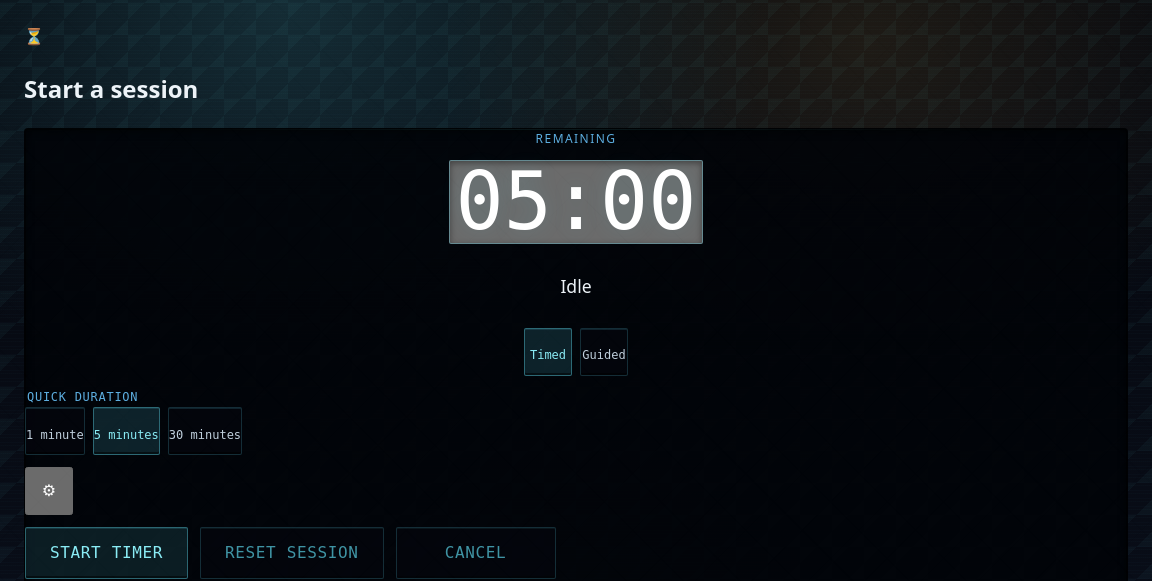
Test case: timer page layout › switches the primary action to pause while the session is running
(page scrolled)
Click the button with test id "timer-start" at (106, 553), box [25,527,188,579]
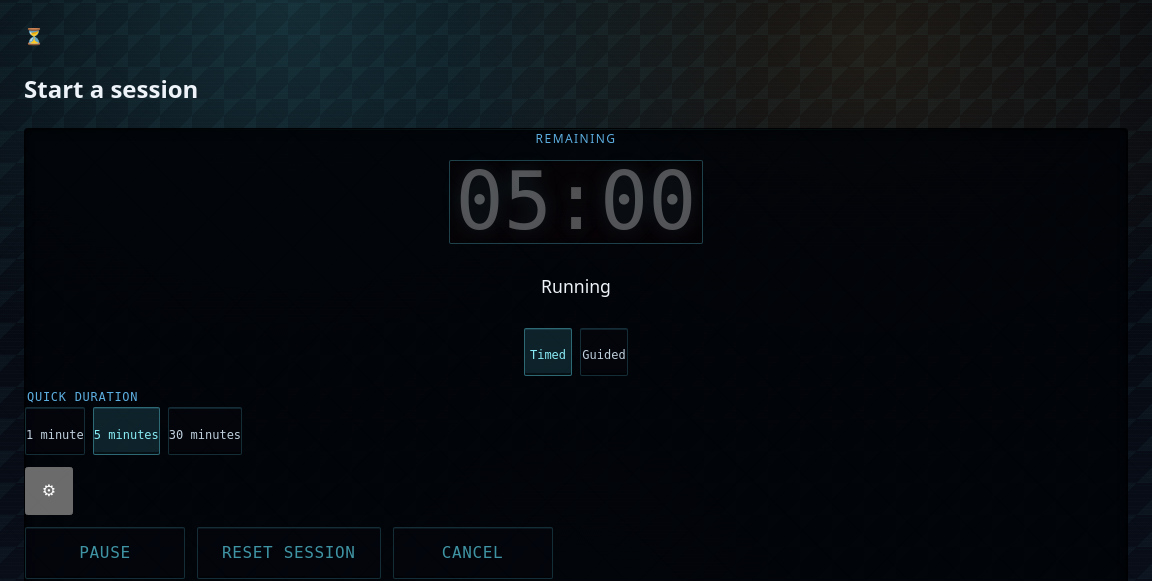
Expected: the button with test id "timer-start" is gone
Expected: the button with test id "timer-pause" reads "Pause", [25,527,185,579]
Click the button with test id "timer-advanced-toggle" showing "⚙" at (49, 491), box [25,467,73,515]
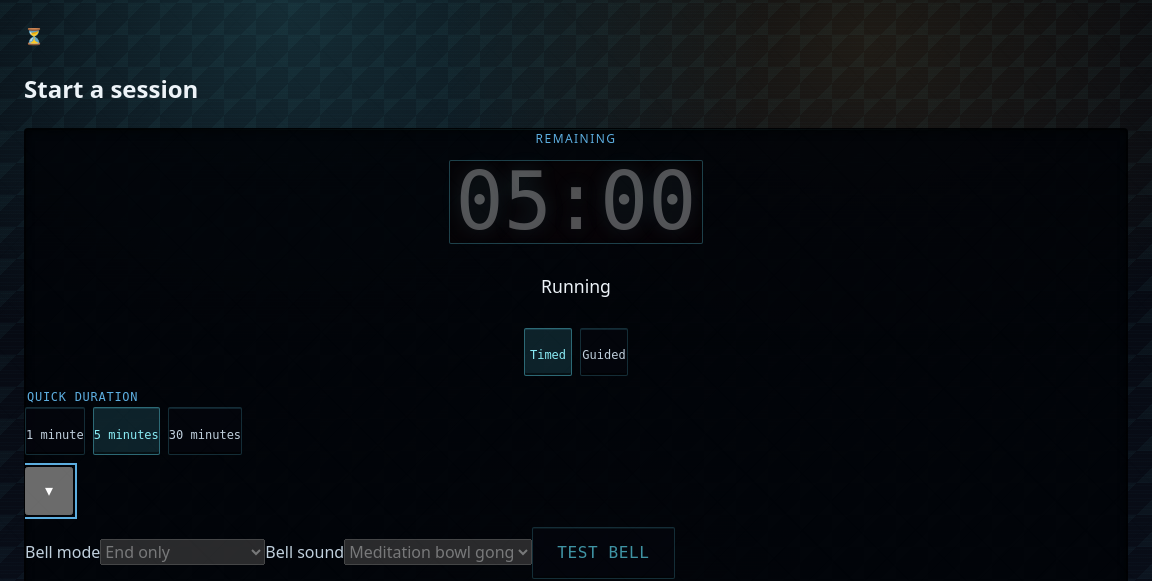
Expected: the dropdown with test id "timer-cue-mode" is disabled, [100,539,265,565]
Expected: the dropdown with test id "timer-sound-profile" is disabled, [344,539,532,565]
